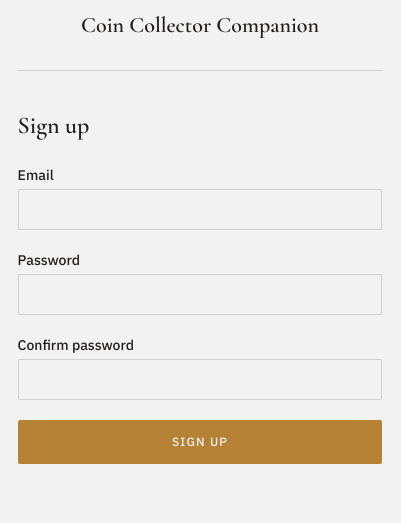
it: SignupPage › criterion 4: surfaces a rejected submission via lib/form-errors, not an unhandled exception › shows a page-level error when the ApiError detail does not match a known field (e.g. duplicate email)
This screenshot has width=401, height=523.
Step 1. Type "dup@example.com" into the field with id "email" → (200,210), box [18,189,382,230]
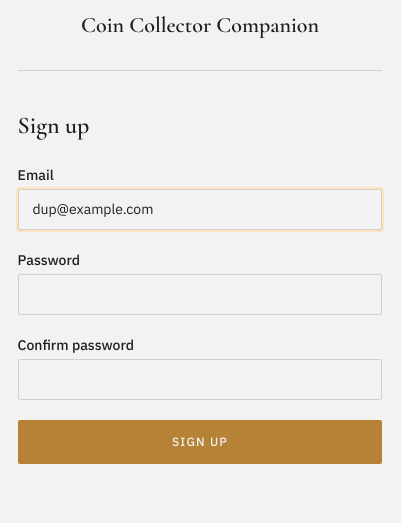
Step 2. Type "password123" into the password field labelled "Password" → (200,294), box [18,274,382,315]
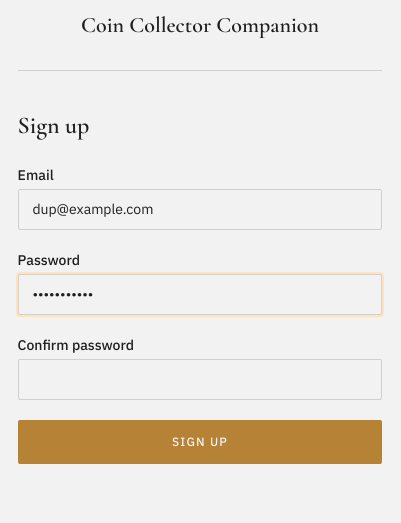
Step 3. Type "password123" into the password field with id "confirmPassword" → (200,379), box [18,359,382,400]
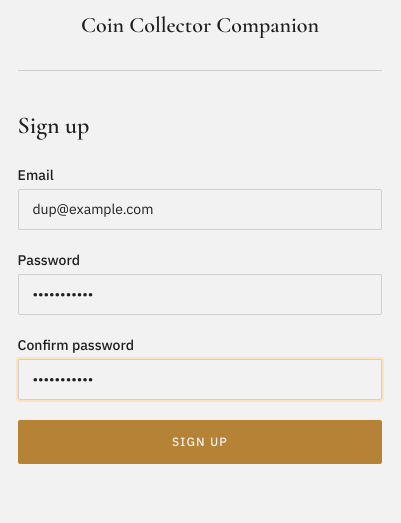
Step 4. Click the button with test id "signup-submit" → (200,442), box [18,420,382,464]
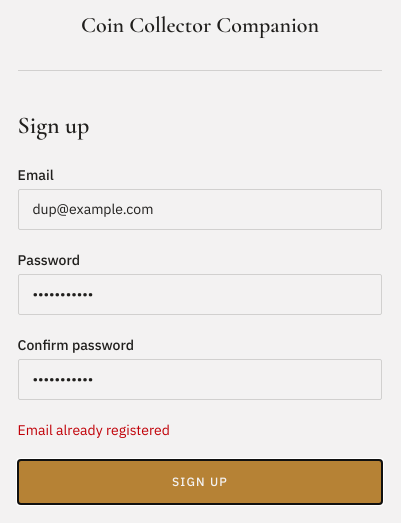
Now the text with test id "signup-form-error" reads "Email already registered", box [18,421,170,439]
